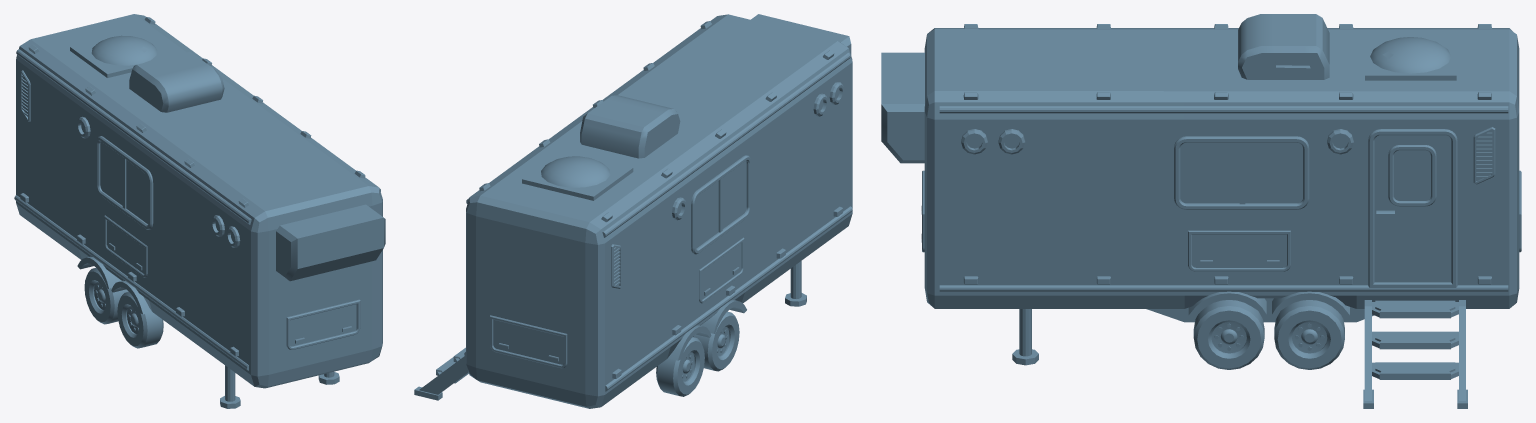
Rendered from Trailer.fbx.
The picture shows the model from 3 angles, left to right: view 1: azimuth 30°, elevation 25°; view 2: azimuth 150°, elevation 25°; view 3: azimuth 270°, elevation 25°; orthographic projection. The views are drawn at different scales.
Parts seen in each view (by area): view 1: Trailer, Wheels_Front, Wheels_Back, Support; view 2: Trailer, Wheels_Back, Wheels_Front, Stairs, Support; view 3: Trailer, Stairs, Wheels_Front, Wheels_Back, Support.
Boxes of the visible parts, x1=… form: Trailer: x1=14, y1=14, x2=385, y2=388; Wheels_Front: x1=117, y1=292, x2=163, y2=348; Wheels_Back: x1=84, y1=268, x2=128, y2=324; Support: x1=220, y1=365, x2=339, y2=408; Trailer: x1=464, y1=14, x2=852, y2=408; Wheels_Back: x1=656, y1=337, x2=704, y2=396; Wheels_Front: x1=693, y1=311, x2=739, y2=371; Stairs: x1=414, y1=347, x2=468, y2=400; Support: x1=785, y1=261, x2=806, y2=306; Trailer: x1=881, y1=14, x2=1521, y2=322; Stairs: x1=1363, y1=300, x2=1467, y2=408; Wheels_Front: x1=1193, y1=300, x2=1264, y2=369; Wheels_Back: x1=1274, y1=300, x2=1344, y2=369; Support: x1=1012, y1=309, x2=1038, y2=365.
Size of the model in its own units: 246 by 288 by 553.
